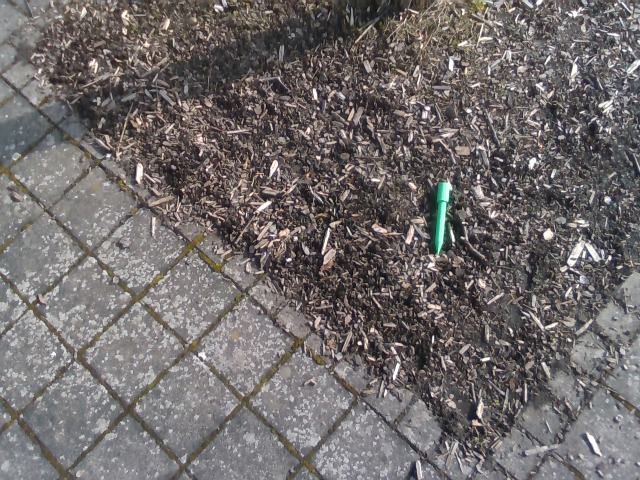Probe: (431, 175, 455, 258)
